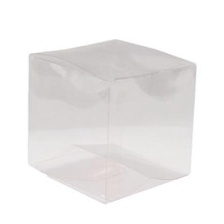plastic_box: (18, 31, 203, 210)
